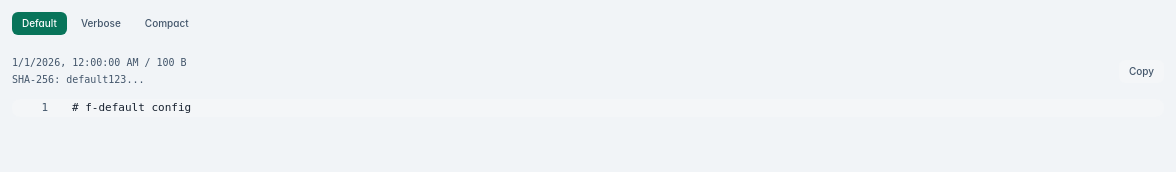
ConfigViewer › infers restored generic text backup tabs from filenames
Check: the button "Default" is shown, box x1=12 y1=12 x2=67 y2=35
Check: the button "Compact" is shown, box x1=135 y1=12 x2=199 y2=35
Click the button "Verbose" at (101,24), box x1=71 y1=12 x2=131 y2=35
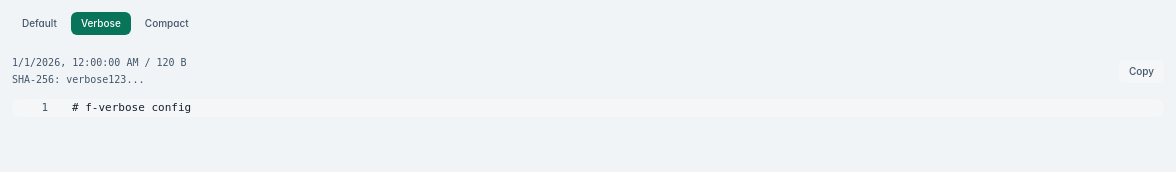
Check: the text "# f-verbose config" is shown, box x1=72 y1=101 x2=191 y2=114
